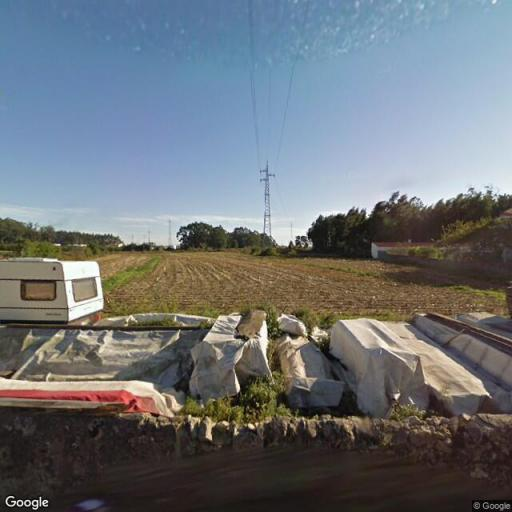ss_4: (258, 161, 278, 264)
